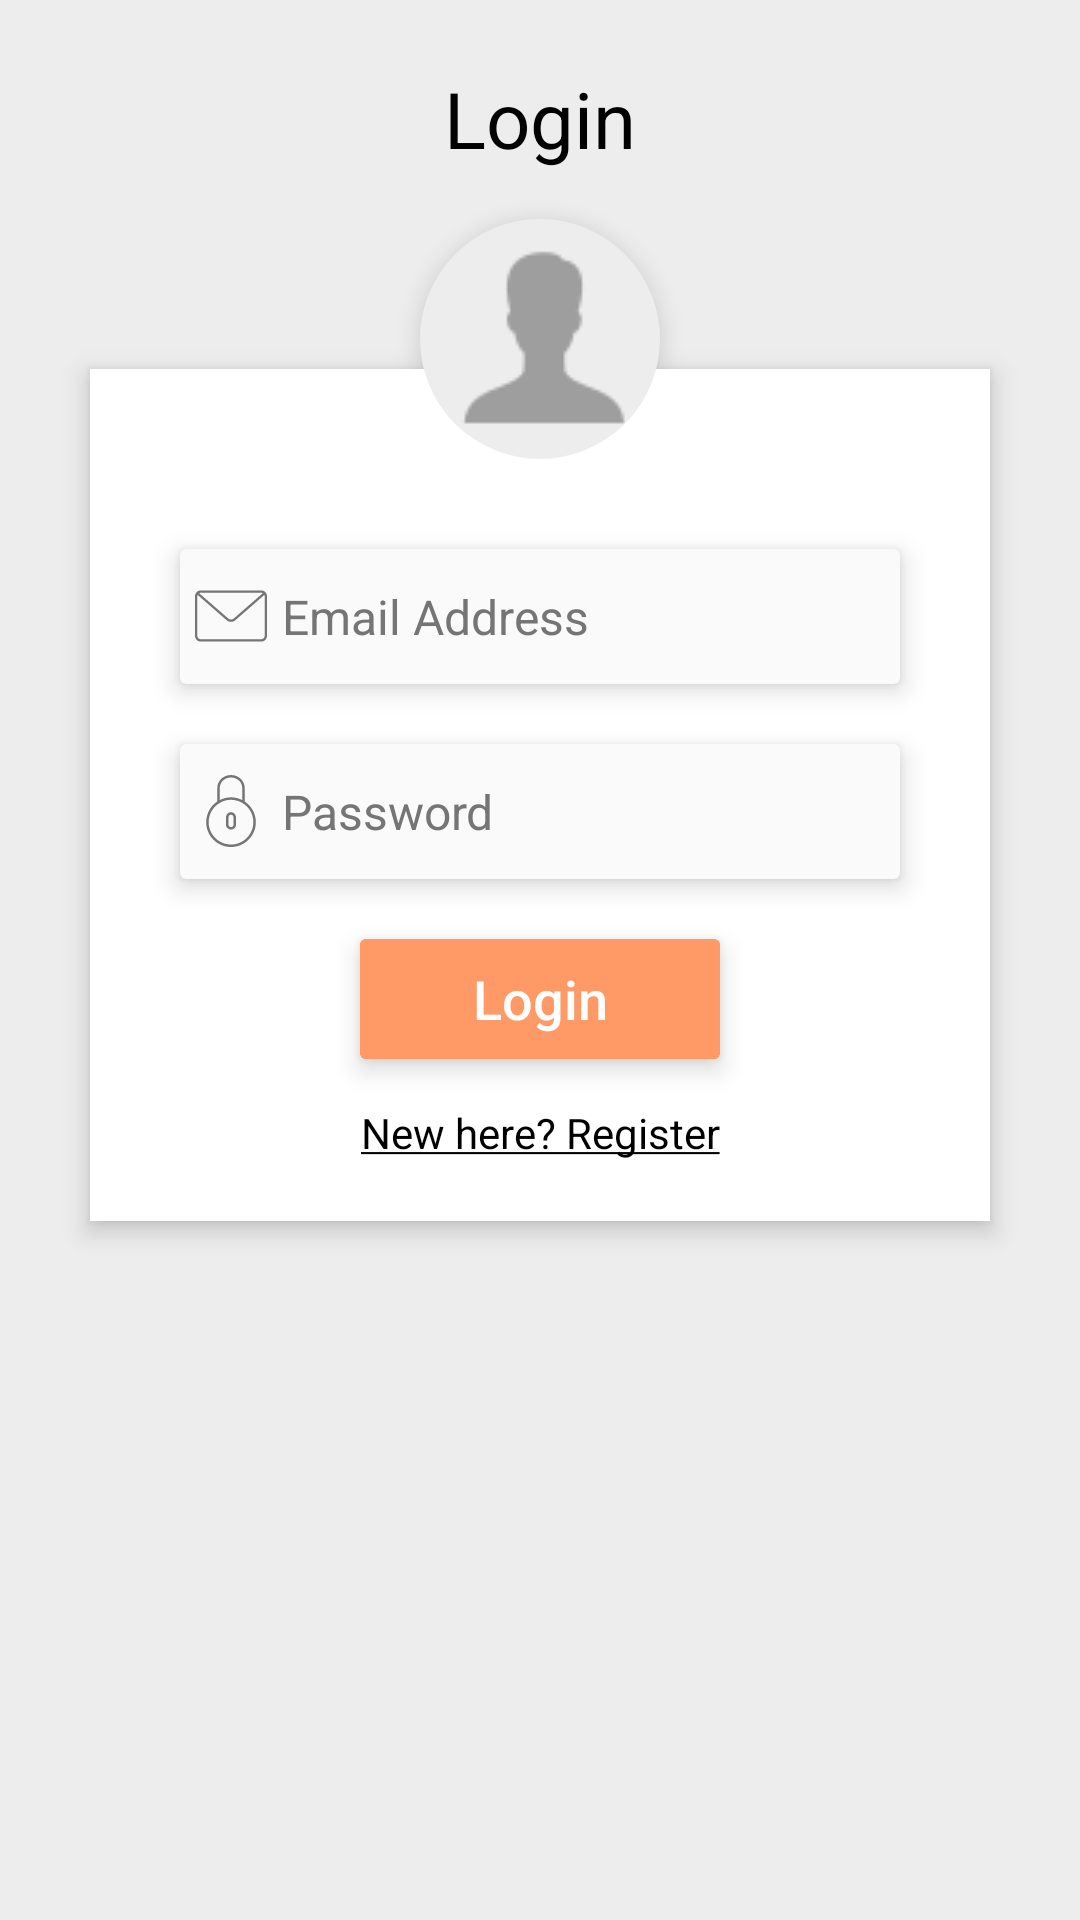

Where to tap for icons on this 1080 × 1920 app screen, as (x=x, y=y):
userfilled: (x=543, y=337)
